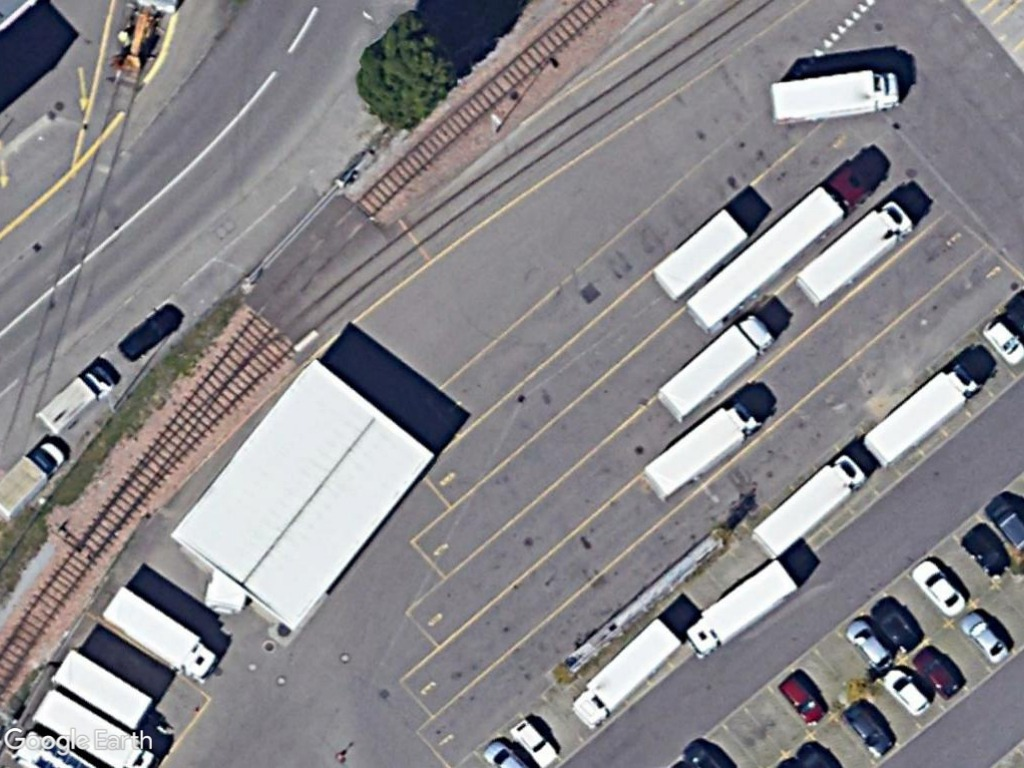car: (910, 553, 967, 618), (959, 609, 1014, 667), (842, 617, 895, 671), (980, 314, 1024, 365)
longvehicle: (684, 161, 873, 332)
truck: (653, 312, 775, 428), (568, 613, 687, 731), (792, 198, 914, 310), (747, 451, 867, 560), (859, 360, 980, 466), (638, 400, 758, 501), (98, 582, 216, 684), (680, 557, 799, 658), (767, 68, 904, 126), (35, 360, 118, 438)
